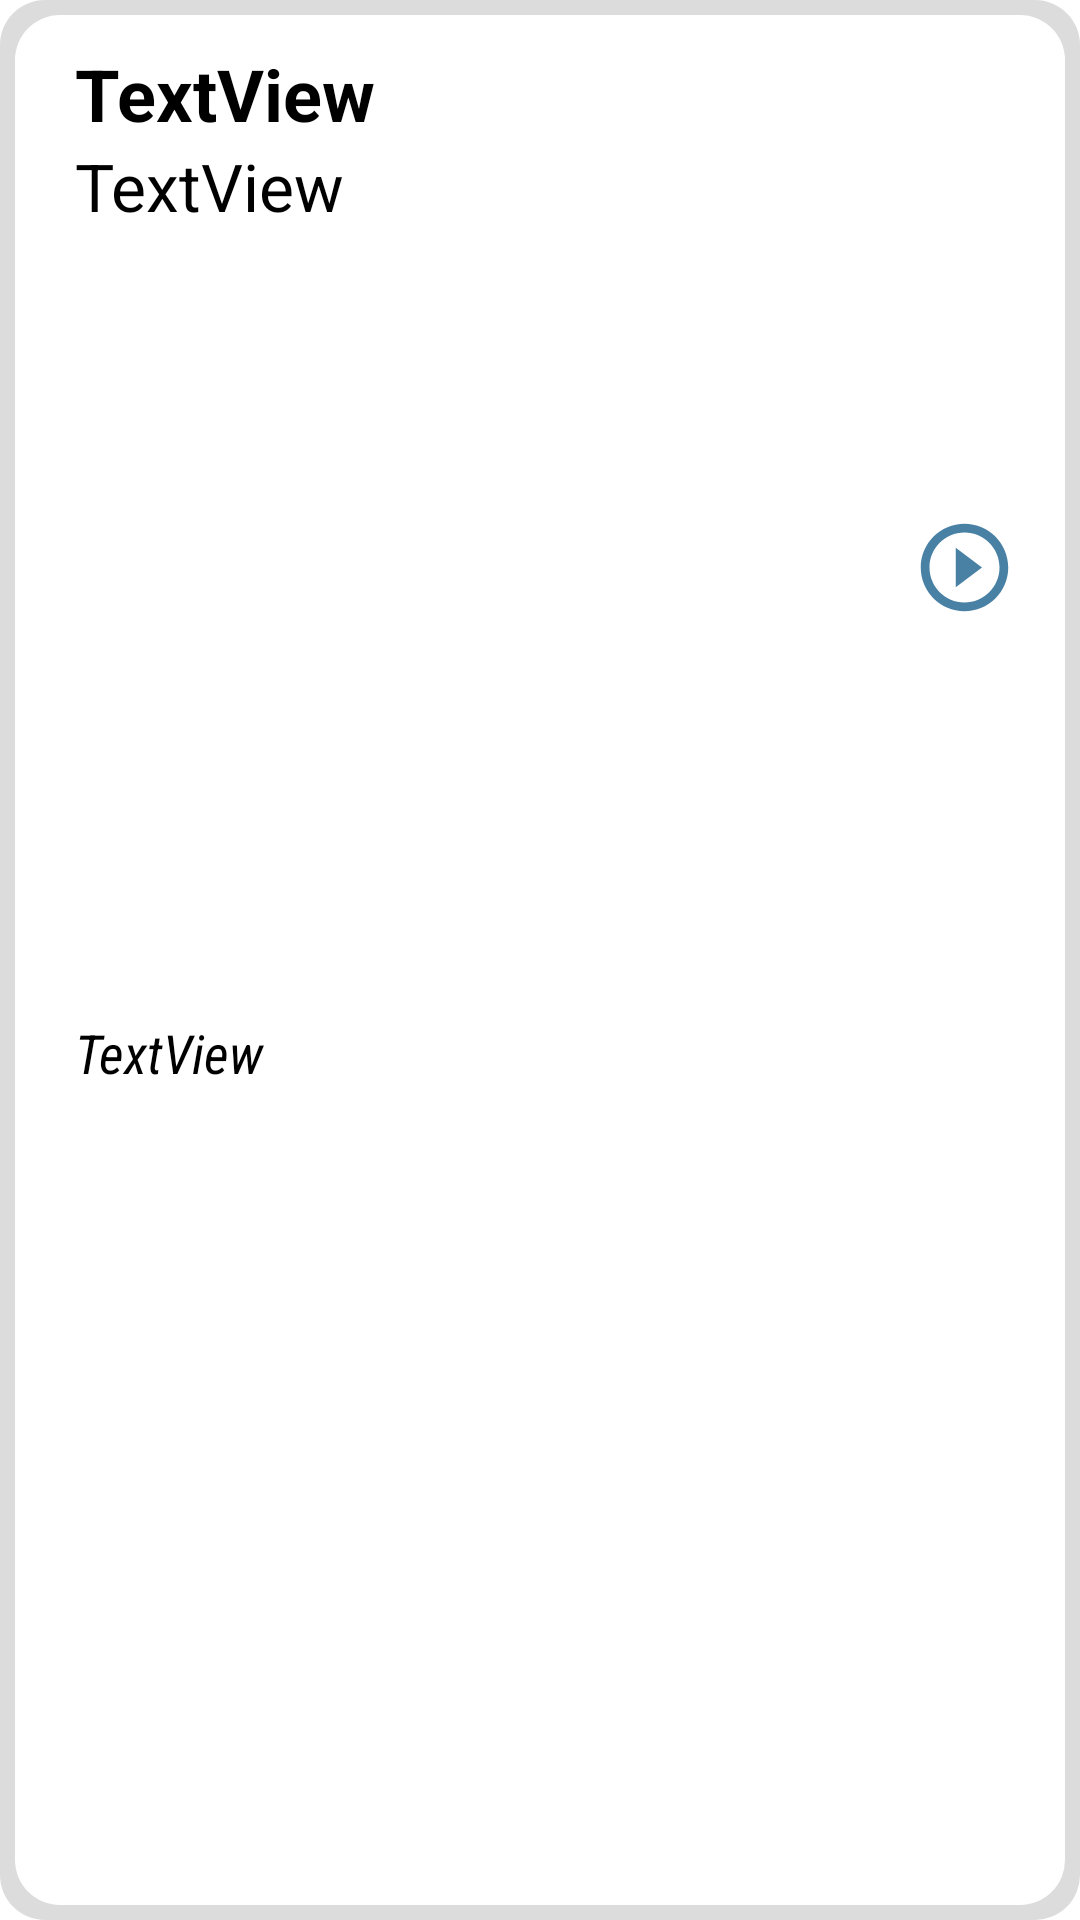

Where to tap for icons on this 1080px x 1920px app screen, as (x=x, y=y):
play circle: (x=964, y=567)
